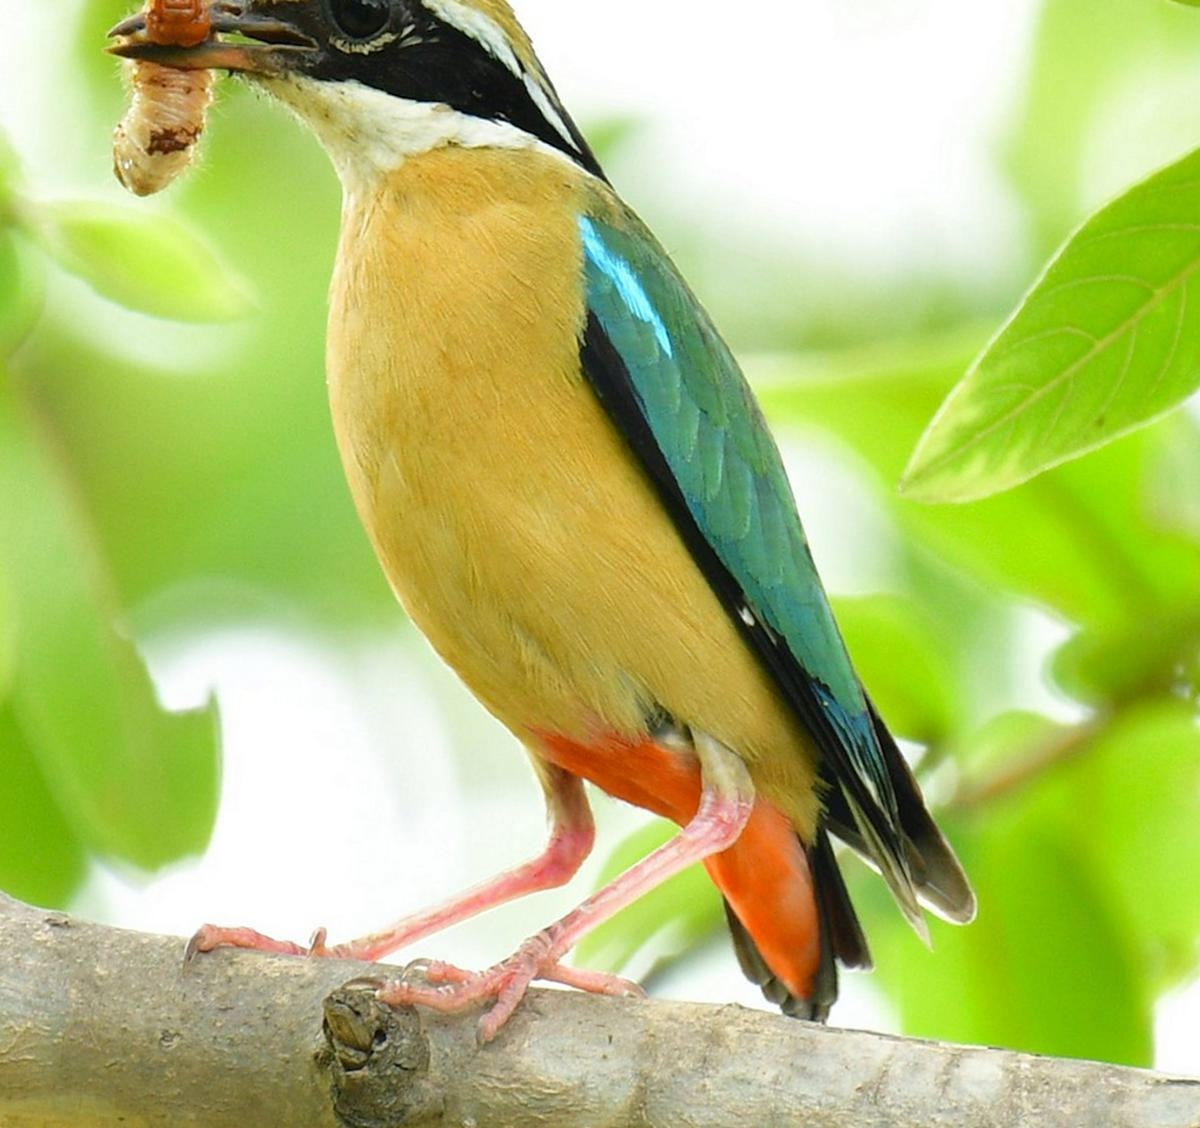pitta: (1, 1, 947, 979)
